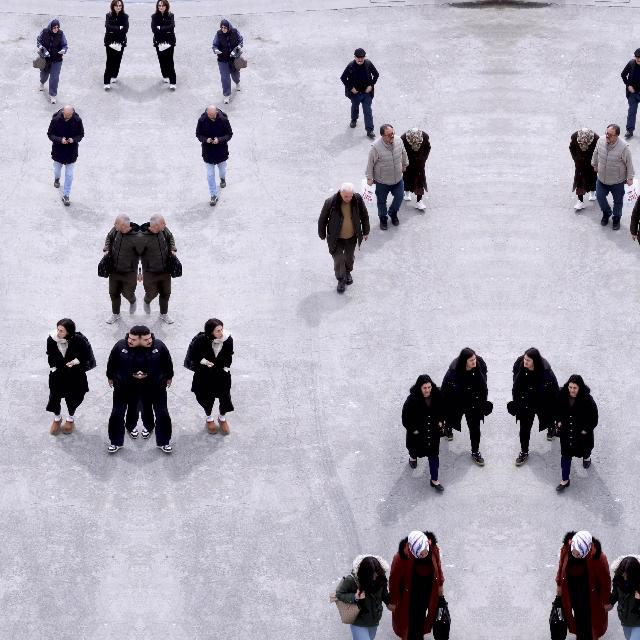person: (387, 529, 446, 640), (553, 529, 612, 640), (440, 347, 494, 468), (506, 347, 560, 468), (183, 318, 235, 436), (45, 318, 97, 436), (318, 182, 370, 292), (401, 374, 447, 492), (553, 374, 599, 492), (334, 554, 394, 640), (364, 124, 410, 230), (590, 124, 636, 230), (140, 326, 174, 454), (106, 326, 140, 454), (140, 213, 177, 325), (104, 213, 140, 325), (194, 104, 233, 206), (46, 104, 85, 206), (340, 48, 380, 138), (605, 554, 640, 640), (212, 18, 244, 104), (36, 18, 68, 104), (400, 127, 432, 211), (568, 127, 600, 211), (151, 0, 177, 90), (103, 0, 129, 90), (620, 47, 640, 138), (629, 181, 640, 292)
